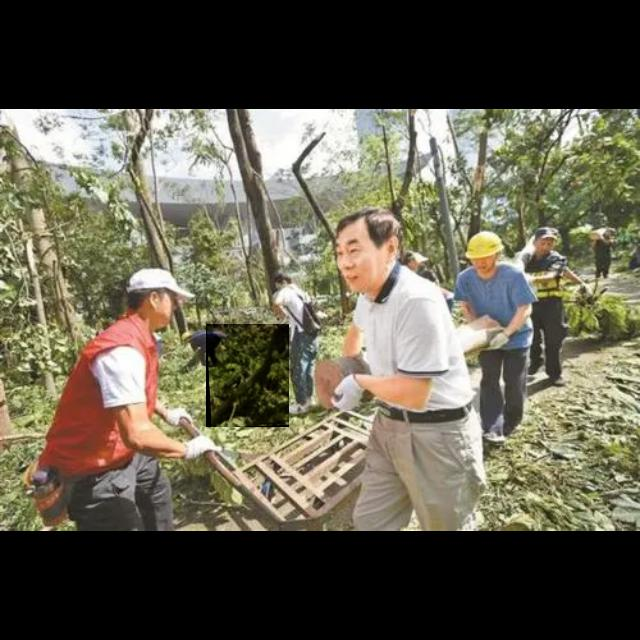Fallen Tree: (206, 324, 290, 428)
